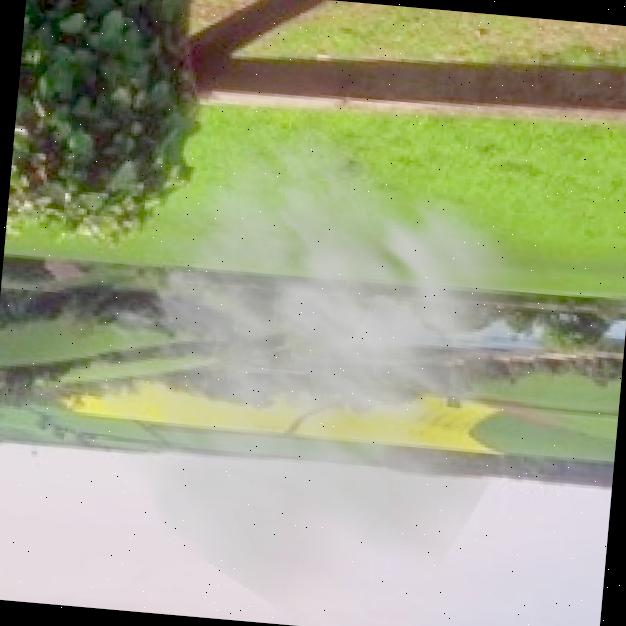smoke: (50, 83, 616, 626)
